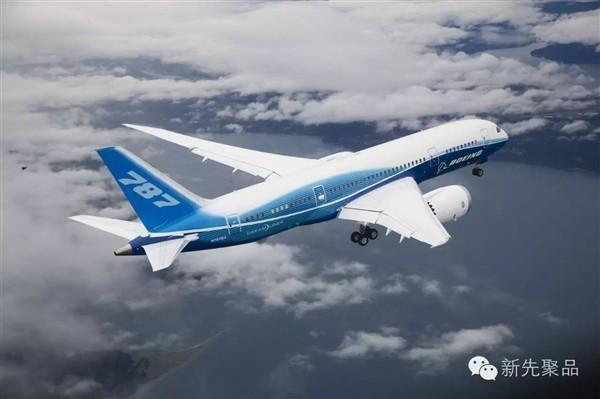airplane: (64, 118, 515, 270)
